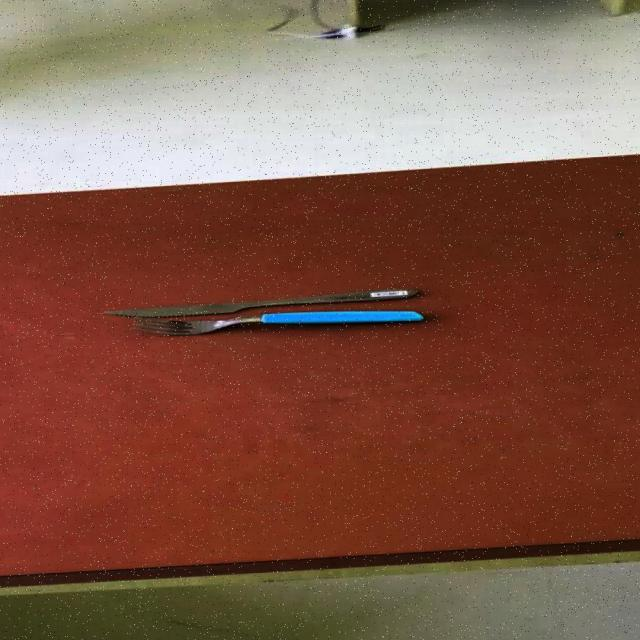Fork: (130, 309, 424, 336)
Knife: (100, 287, 417, 318)
